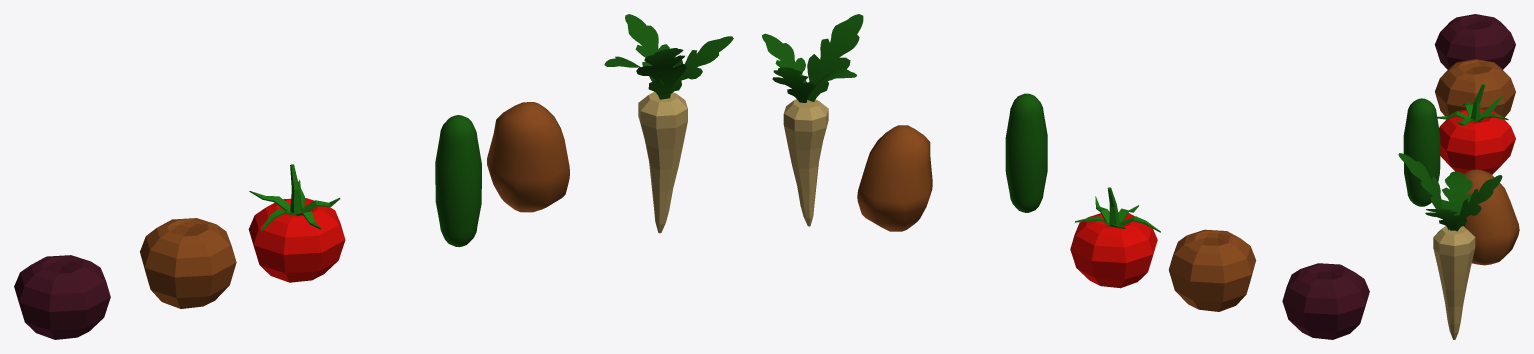
File: Low poly veg assets - corn.fbx
3 views of the same model, side by side, from view 1: azimuth 30°, elevation 25°; view 2: azimuth 150°, elevation 25°; view 3: azimuth 270°, elevation 25° (orthographic). The views are drawn at different scales.
Visible parts, largest first — view 1: Potato, tomato (×2), Onion, Red onion, Cucumber, Cylinder090, Parsnip; view 2: Potato, tomato (×2), Onion, Red onion, Cucumber, Parsnip, Cylinder090; view 3: tomato (×2), Onion, Red onion, Potato, Cucumber, Cylinder090, Parsnip.
Boxes of the visible parts, bbox=[...] form: Potato: bbox=[487, 102, 569, 212]; tomato (×2): bbox=[248, 164, 345, 282]; Onion: bbox=[140, 218, 236, 308]; Red onion: bbox=[14, 255, 110, 339]; Cucumber: bbox=[435, 115, 481, 247]; Cylinder090: bbox=[638, 91, 687, 233]; Parsnip: bbox=[604, 14, 733, 99]; Potato: bbox=[857, 125, 932, 231]; tomato (×2): bbox=[1070, 187, 1160, 288]; Onion: bbox=[1168, 229, 1256, 311]; Red onion: bbox=[1282, 263, 1369, 339]; Cucumber: bbox=[1005, 93, 1047, 212]; Parsnip: bbox=[762, 14, 863, 102]; Cylinder090: bbox=[783, 99, 828, 226]; tomato (×2): bbox=[1437, 84, 1515, 174]; Onion: bbox=[1435, 59, 1515, 117]; Red onion: bbox=[1434, 14, 1515, 69]; Potato: bbox=[1463, 169, 1519, 265]; Cucumber: bbox=[1403, 98, 1440, 206]; Cylinder090: bbox=[1433, 226, 1475, 339]; Parsnip: bbox=[1398, 153, 1502, 231].
Bounding box in the file's own units: 392 × 116 × 72.7.
